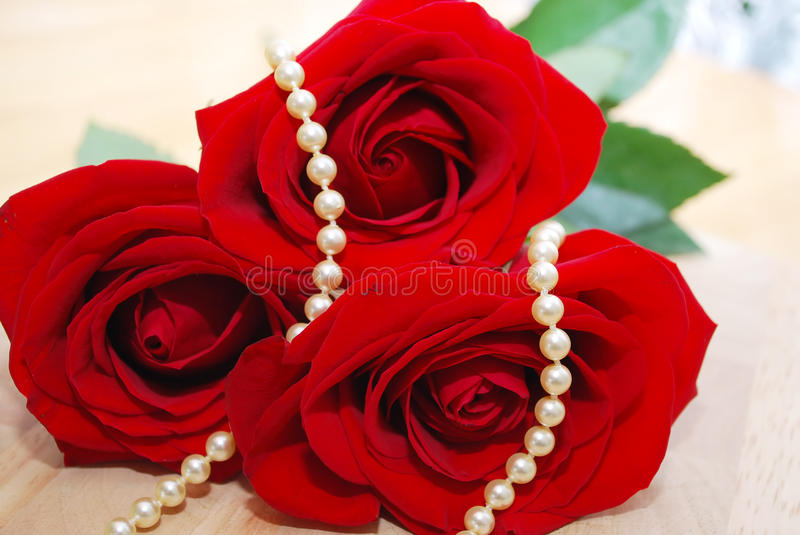RedRose: (232, 234, 732, 535), (176, 11, 656, 283), (6, 133, 281, 491)
